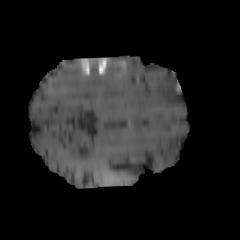glioma: (51, 53, 168, 108)
